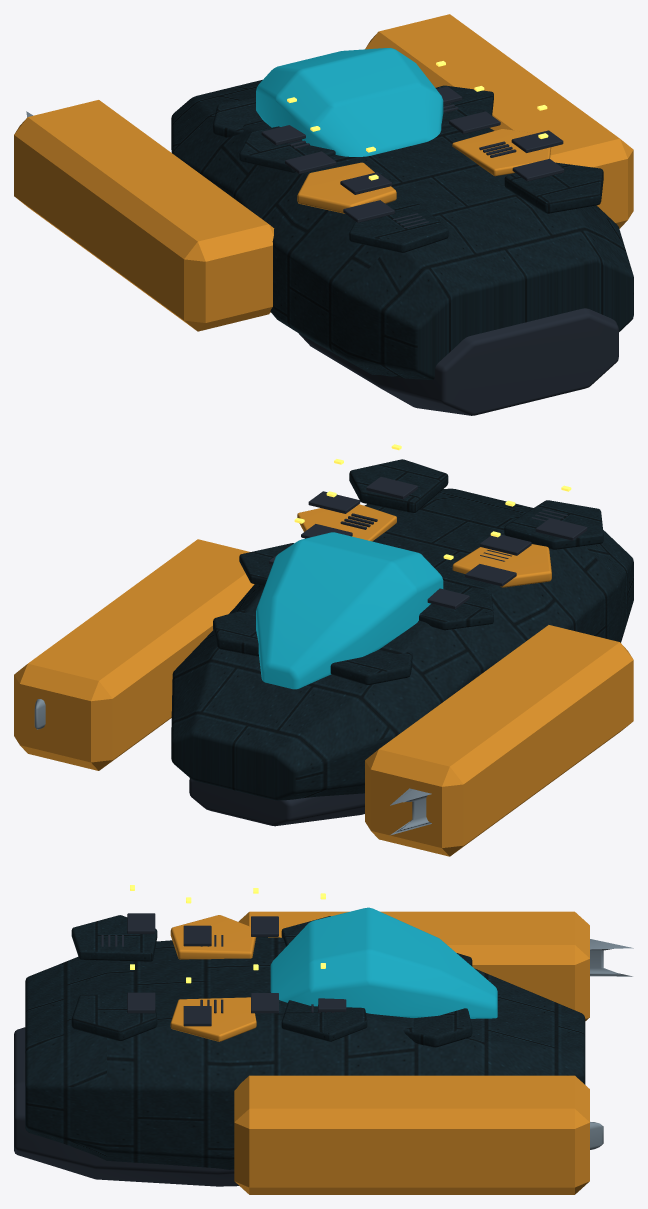
The model's file is mammoth.glb.
The picture shows the model from 3 angles, top to bottom: view 1: azimuth 30°, elevation 25°; view 2: azimuth 150°, elevation 25°; view 3: azimuth 270°, elevation 25°; orthographic projection. The views are drawn at different scales.
Parts seen in each view (by area): view 1: Gôndola do motor.029 · exportação, Colar da turbina.088 · exportação, Bocal do motor.029 · exportação, Cabine panorâmica.014 · exportação; view 2: Colar da turbina.088 · exportação, Gôndola do motor.029 · exportação, Cabine panorâmica.014 · exportação, Bocal do motor.029 · exportação, Aleta do bocal.239 · exportação; view 3: Gôndola do motor.029 · exportação, Colar da turbina.088 · exportação, Cabine panorâmica.014 · exportação, Bocal do motor.029 · exportação, Aleta do bocal.239 · exportação.
Part boxes in pixels (bbox=[...]): Gôndola do motor.029 · exportação: bbox=[171, 79, 633, 379]; Colar da turbina.088 · exportação: bbox=[14, 14, 633, 331]; Bocal do motor.029 · exportação: bbox=[261, 86, 618, 415]; Cabine panorâmica.014 · exportação: bbox=[256, 48, 443, 156]; Colar da turbina.088 · exportação: bbox=[14, 504, 633, 856]; Gôndola do motor.029 · exportação: bbox=[171, 459, 633, 800]; Cabine panorâmica.014 · exportação: bbox=[256, 532, 443, 689]; Bocal do motor.029 · exportação: bbox=[189, 477, 587, 826]; Aleta do bocal.239 · exportação: bbox=[34, 699, 431, 835]; Gôndola do motor.029 · exportação: bbox=[25, 915, 585, 1169]; Colar da turbina.088 · exportação: bbox=[170, 911, 589, 1194]; Cabine panorâmica.014 · exportação: bbox=[270, 907, 497, 1018]; Bocal do motor.029 · exportação: bbox=[14, 913, 346, 1186]; Aleta do bocal.239 · exportação: bbox=[590, 939, 633, 1149].
Size of the model in its own units: 44.28 by 22.14 by 55.26.
7 materials, 1 textured.
